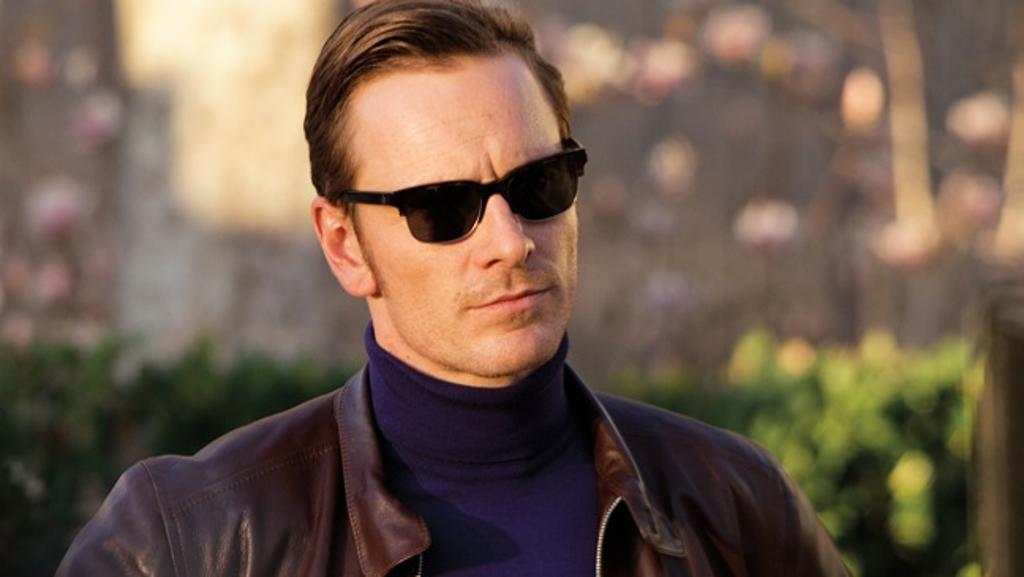face: (378, 58, 592, 372)
